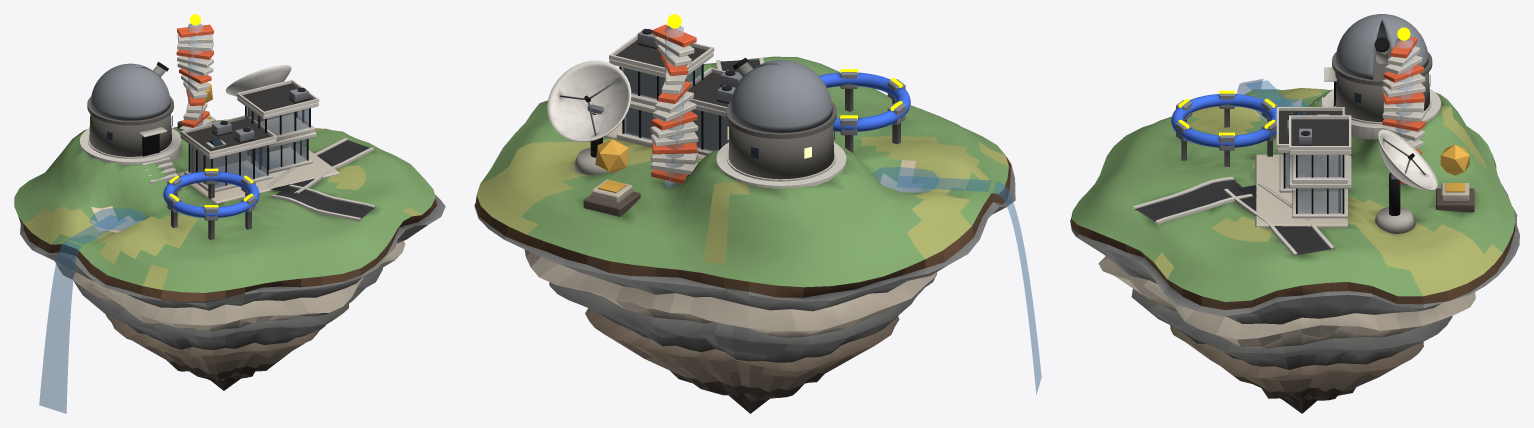
The model's file is research_lod1.glb.
The picture shows the model from 3 angles, left to right: view 1: azimuth 30°, elevation 25°; view 2: azimuth 150°, elevation 25°; view 3: azimuth 270°, elevation 25°; orthographic projection. The views are drawn at different scales.
Parts seen in each view (by area): view 1: terrain, foundation, buildings, props, waterfall_0, anim_spin_dome, landmarks, anim_spin_dish, water_pond0, water_channel0; view 2: terrain, foundation, buildings, anim_spin_dome, anim_spin_dish, props, landmarks, waterfall_0, water_pond0, water_channel0, anim_spin_monument_ico; view 3: terrain, foundation, buildings, landmarks, anim_spin_dome, props, anim_spin_dish, anim_spin_monument_ico, water_channel0.
Part boxes in pixels (box(x1,y1,x2,y2)): terrain: box(14, 119, 435, 292); foundation: box(18, 194, 445, 390); buildings: box(87, 23, 319, 192); props: box(169, 14, 313, 207); waterfall_0: box(39, 240, 81, 413); anim_spin_dome: box(90, 62, 170, 120); landmarks: box(163, 171, 259, 240); anim_spin_dish: box(225, 65, 291, 96); water_pond0: box(89, 208, 146, 230); water_channel0: box(68, 215, 127, 244); terrain: box(476, 56, 1008, 287); foundation: box(474, 128, 1015, 413); buildings: box(573, 24, 836, 216); anim_spin_dome: box(730, 57, 832, 132); anim_spin_dish: box(547, 60, 631, 141); props: box(616, 14, 902, 149); landmarks: box(819, 72, 910, 152); waterfall_0: box(993, 181, 1041, 394); water_pond0: box(872, 167, 938, 192); water_channel0: box(897, 176, 991, 191); anim_spin_monument_ico: box(595, 139, 628, 173); terrain: box(1072, 88, 1515, 301); foundation: box(1070, 154, 1519, 413); buildings: box(1276, 37, 1474, 233); landmarks: box(1171, 93, 1278, 166); anim_spin_dome: box(1335, 14, 1428, 79); props: box(1178, 27, 1410, 213); anim_spin_dish: box(1378, 129, 1437, 190); anim_spin_monument_ico: box(1440, 144, 1469, 175); water_channel0: box(1245, 80, 1293, 106).
Size of the model in its own units: 16.65 by 14.04 by 14.5.
